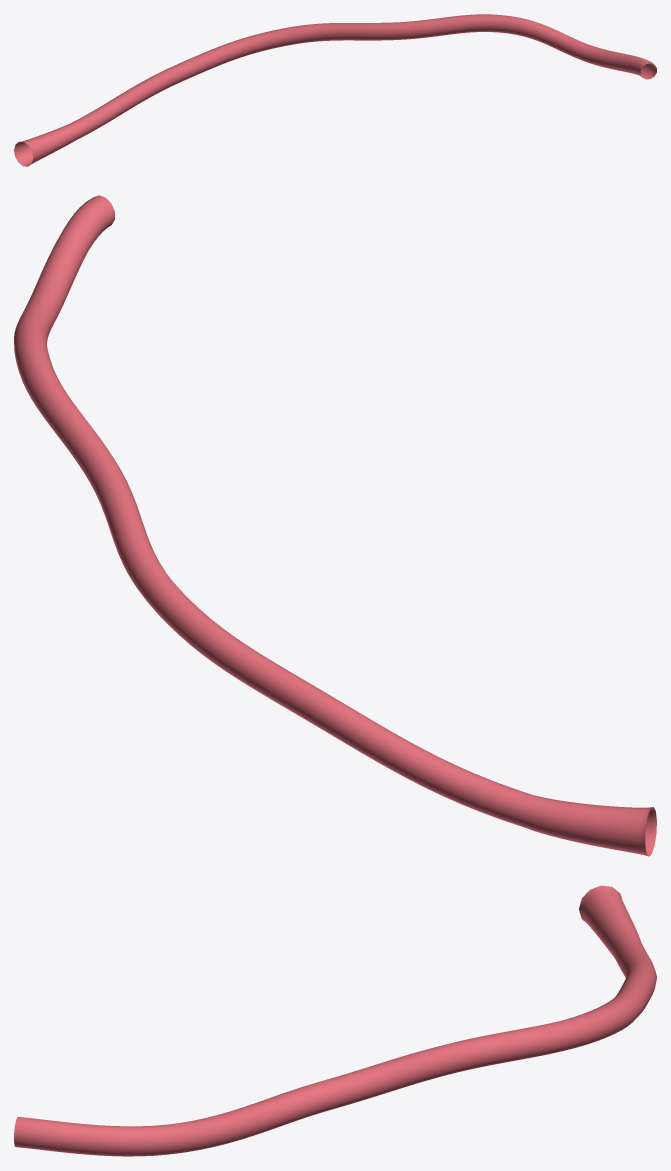
3 renders of one model, top to bottom at view 1: azimuth 30°, elevation 25°; view 2: azimuth 150°, elevation 25°; view 3: azimuth 270°, elevation 25°, orthographic. The views are drawn at different scales.
Parts seen in each view (by area): view 1: ZA_d37ded8a26040897; view 2: ZA_d37ded8a26040897; view 3: ZA_d37ded8a26040897.
Part boxes in pixels (x1,y1,x2,y2): ZA_d37ded8a26040897: (14, 14, 656, 166); ZA_d37ded8a26040897: (14, 195, 656, 856); ZA_d37ded8a26040897: (14, 885, 656, 1156).
Size of the model in its own units: 0.061 by 0.0141 by 0.0416.
